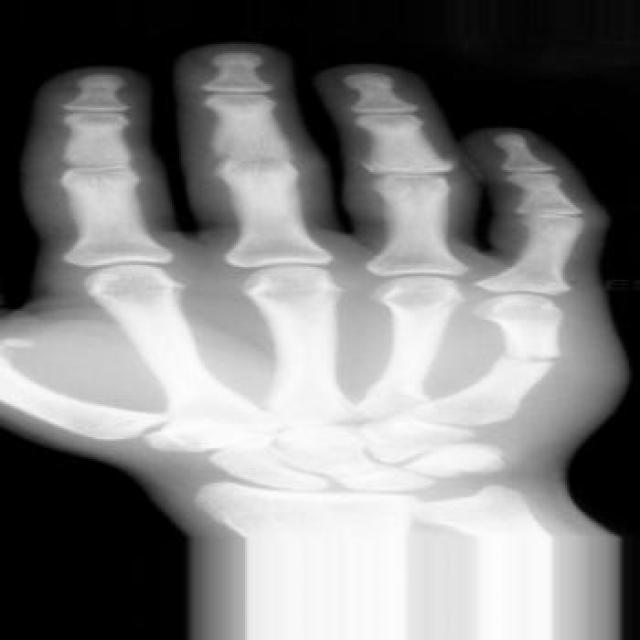Fracture: (489, 346, 577, 373)
